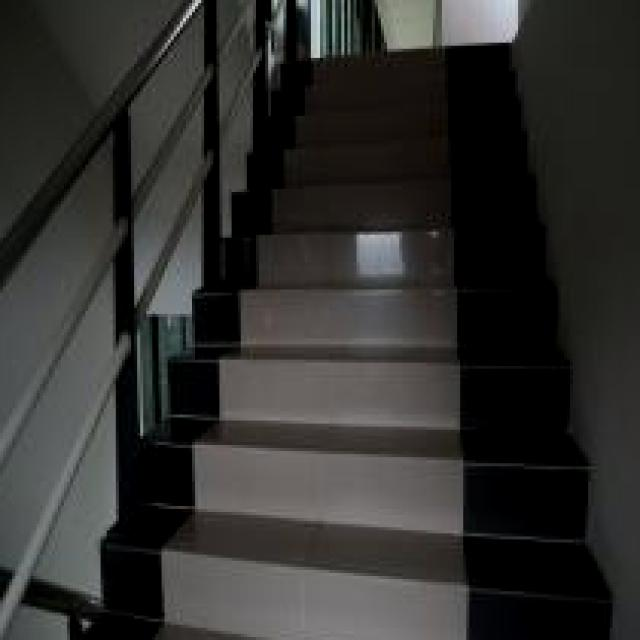upstair: (275, 96, 519, 580)
